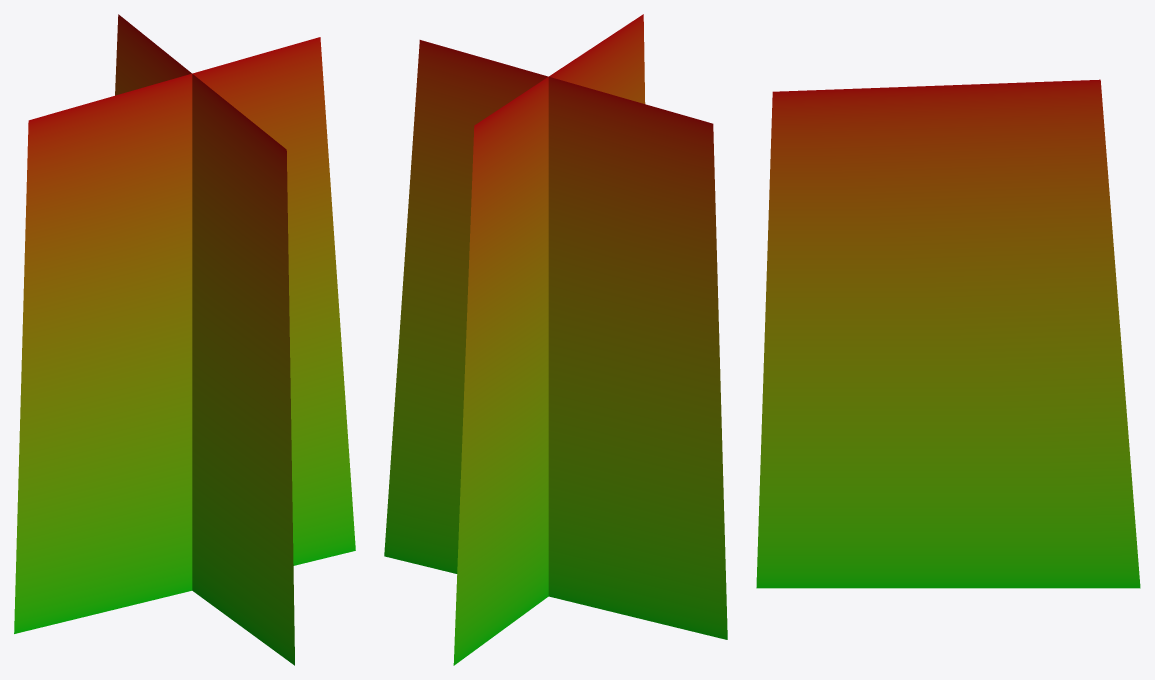
Rendered from Var8_LOD5.fbx.
The picture shows the model from 3 angles, left to right: view 1: azimuth 30°, elevation 25°; view 2: azimuth 150°, elevation 25°; view 3: azimuth 270°, elevation 25°; orthographic projection. The views are drawn at different scales.
Visible parts, largest first — view 1: _zq38_Var8_LOD5; view 2: _zq38_Var8_LOD5; view 3: _zq38_Var8_LOD5.
Boxes of the visible parts, bbox=[...] form: _zq38_Var8_LOD5: bbox=[14, 14, 355, 665]; _zq38_Var8_LOD5: bbox=[384, 14, 727, 665]; _zq38_Var8_LOD5: bbox=[756, 79, 1140, 588].
Bounding box in the file's own units: 32.63 × 47.67 × 32.63.
